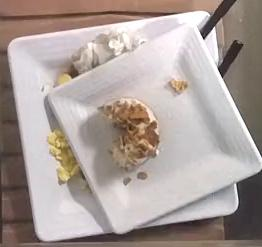donut: (99, 98, 160, 171)
scrambled_eggs: (47, 128, 77, 181)
